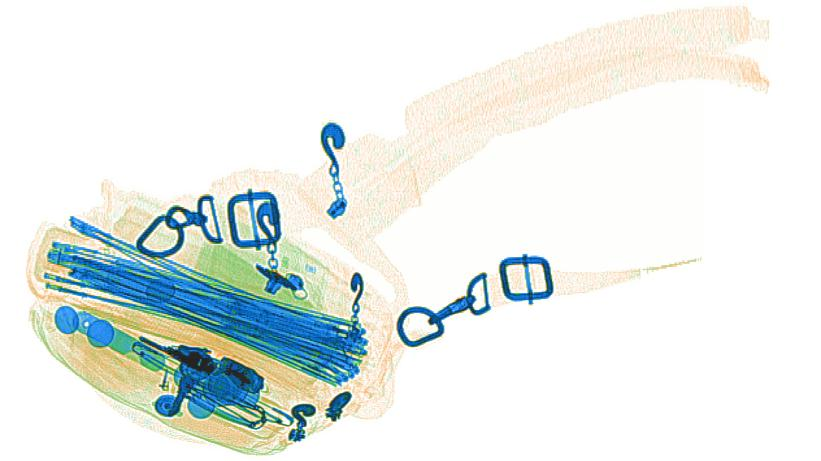knife: (70, 309, 166, 373)
